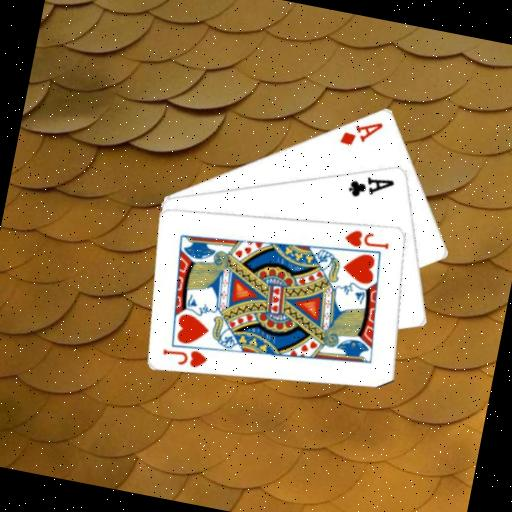AC: (344, 169, 398, 206)
AD: (336, 112, 387, 153)
JH: (341, 225, 393, 255), (158, 341, 210, 371)
